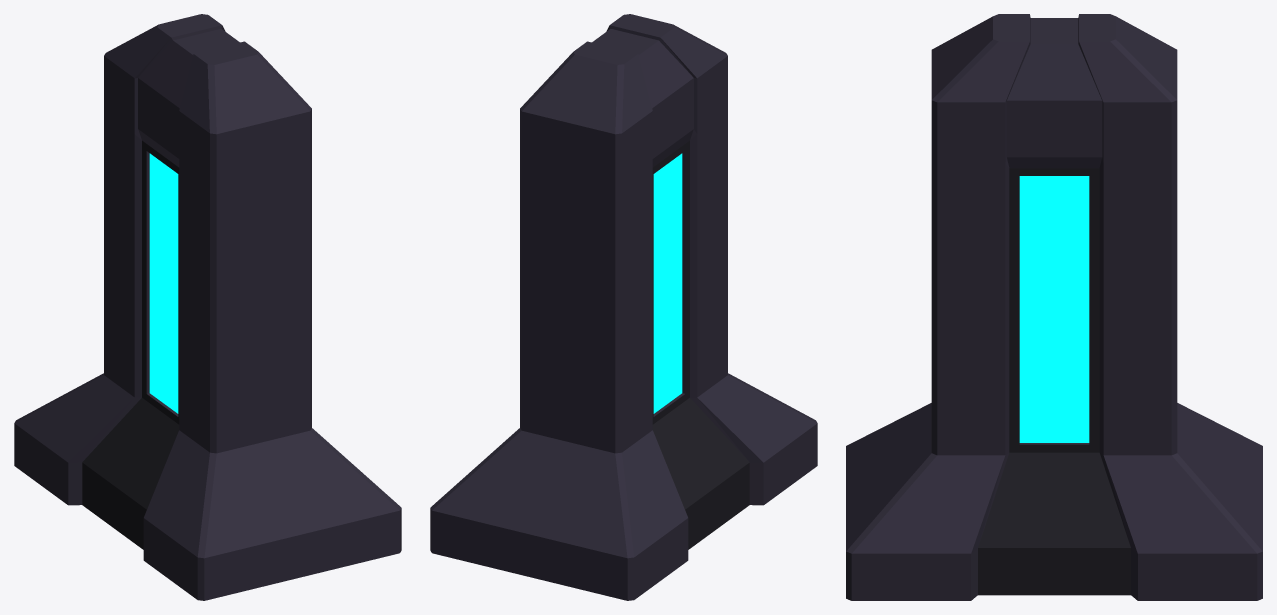
File: column.glb
3 views of the same model, side by side, from view 1: azimuth 30°, elevation 25°; view 2: azimuth 150°, elevation 25°; view 3: azimuth 270°, elevation 25° (orthographic). The views are drawn at different scales.
Visible parts, largest first — view 1: Pylonne; view 2: Pylonne; view 3: Pylonne.
Part boxes in pixels (x1,y1,x2,y2): Pylonne: [14, 14, 401, 600]; Pylonne: [430, 14, 817, 600]; Pylonne: [846, 14, 1262, 600].
Bounding box in the file's own units: 0.5 × 1.1 × 0.8.
